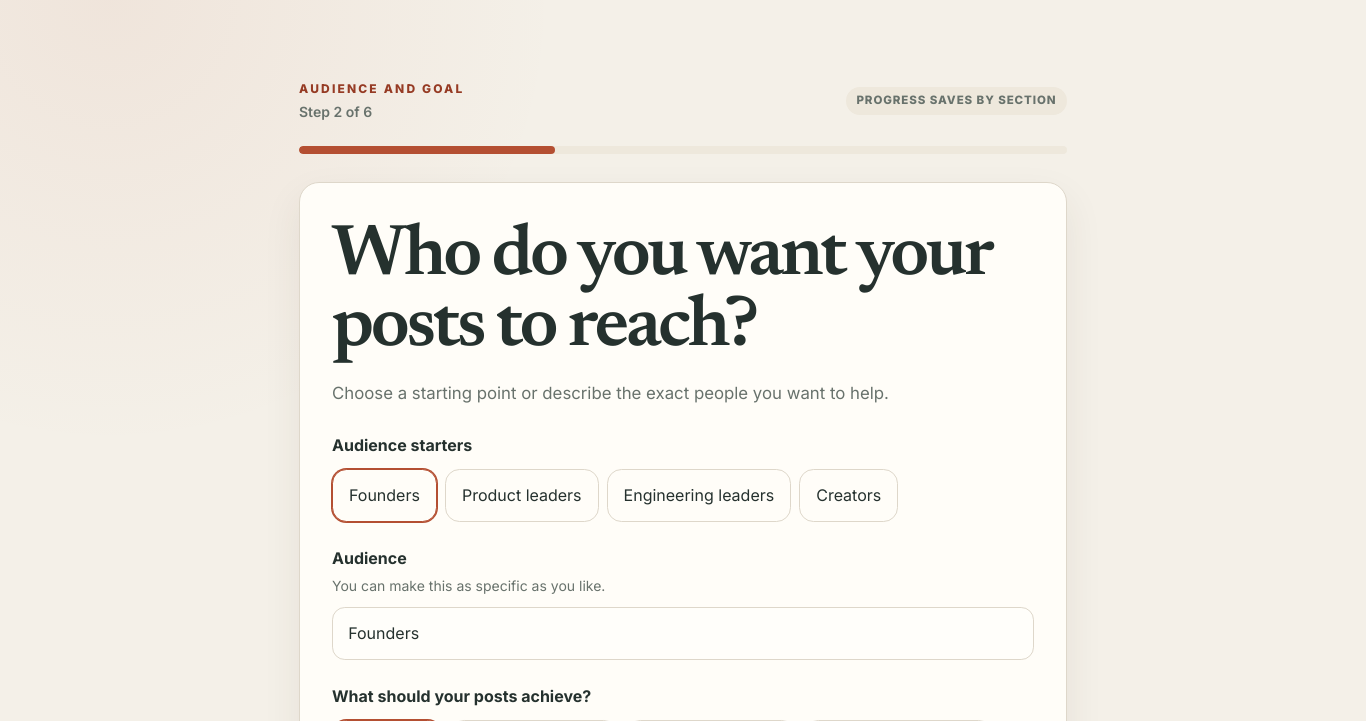
Test case: shows focused progress, one heading, and accessible choices
The image size is (1366, 721).
Expected: the text "Step 2 of 6" is shown, left=299, top=103, right=372, bottom=120
Expected: the number of headings is 1, left=332, top=222, right=1034, bottom=363
Click the button "Product leaders" at x=522, y=495, box left=445, top=469, right=598, bottom=522
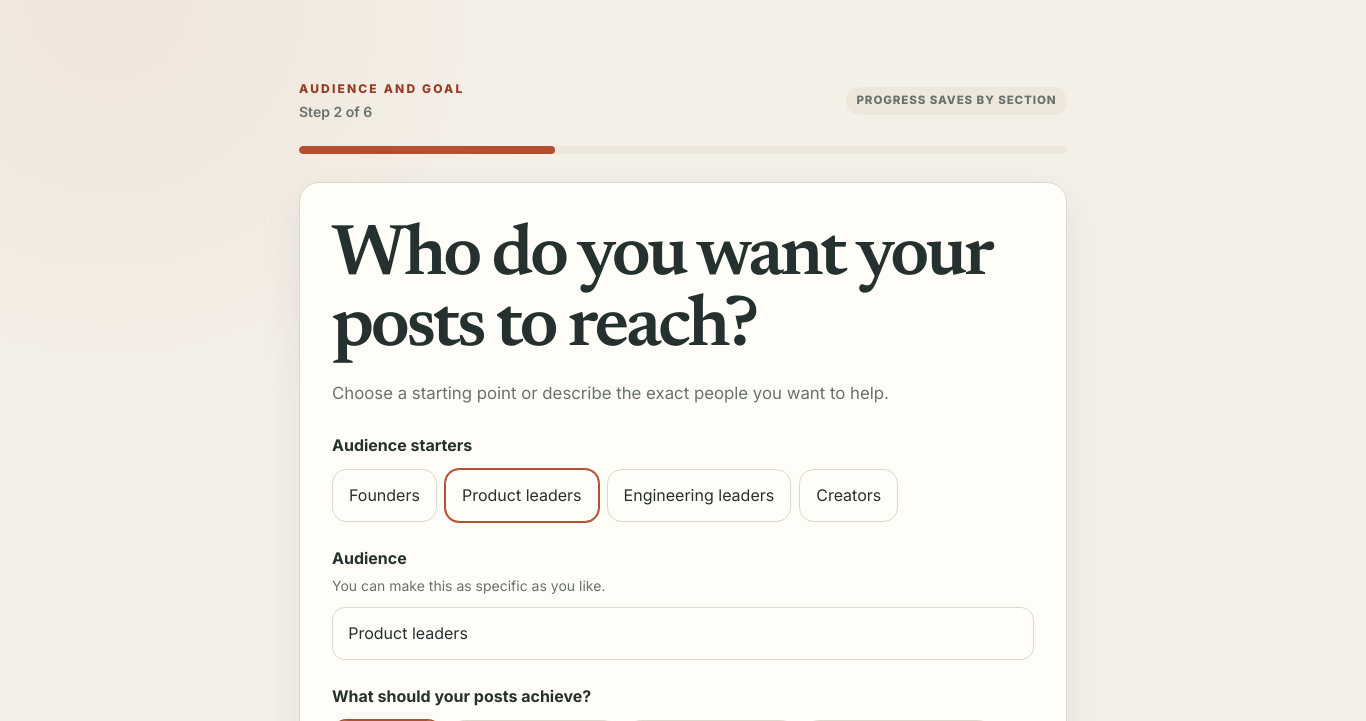
Result: the field labelled "Audience" holds "Product leaders" at left=332, top=607, right=1034, bottom=660
